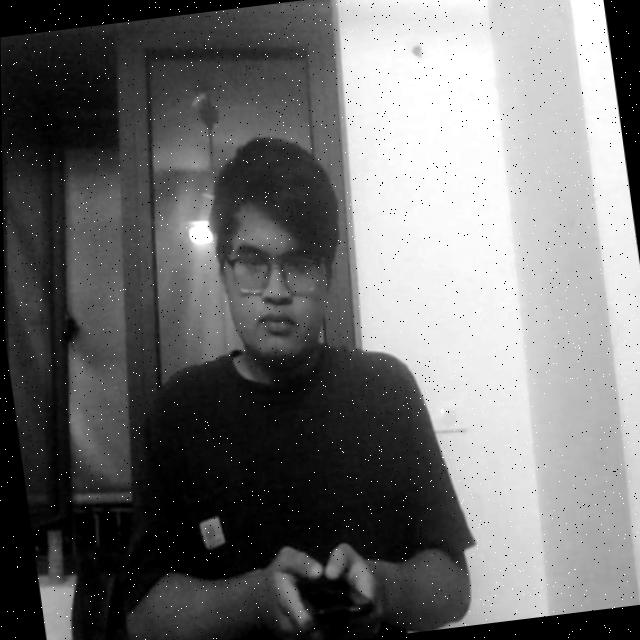phone: (275, 534, 391, 640)
